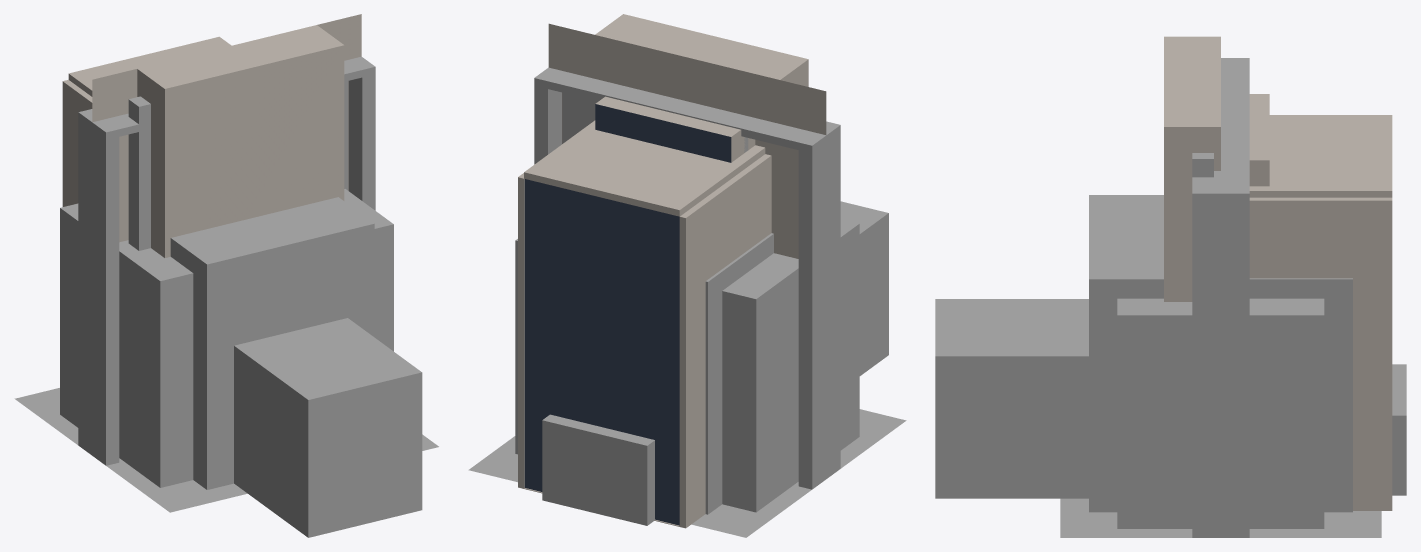
The model's file is wood.glb.
3 renders of one model, left to right at view 1: azimuth 30°, elevation 25°; view 2: azimuth 150°, elevation 25°; view 3: azimuth 270°, elevation 25°, orthographic. The views are drawn at different scales.
Visible parts, largest first — view 1: Mod_fireplace_wood, Solid_iron_bed, Isl_twin_cribs, Isl_bed_screen, Door_frame_wood, Exit_wood_p0, Mod_ceilhole_wood, Door_closed_wood, Win_sash_curtain, Isl_crib_rocker, Mod_wallhole_lath_A_wood, Mod_wallhole_lath_B_wood (+2 smaller); view 2: Exit_wood_p1, Exit_wood_p0, Isl_bed_screen, Door_frame_wood, Door_closed_wood, Mod_wallhole_lath_B_wood, Solid_nursery_table, Mod_fireplace_wood, Solid_iron_bed, Mod_ceilhole_wood, Isl_twin_cribs, Win_sash_sky (+4 smaller); view 3: Isl_bed_screen, Exit_wood_p0, Solid_iron_bed, Door_frame_wood, Isl_twin_cribs, Mod_fireplace_wood, Isl_crib_rocker, Mod_ceilhole_wood, Solid_nursery_table, Win_sash.
Boxes of the visible parts, left/top/right/bottom form: Mod_fireplace_wood: left=137, top=25, right=344, bottom=257; Solid_iron_bed: left=234, top=318, right=422, bottom=537; Isl_twin_cribs: left=170, top=197, right=374, bottom=489; Isl_bed_screen: left=60, top=189, right=393, bottom=487; Door_frame_wood: left=78, top=56, right=375, bottom=465; Exit_wood_p0: left=62, top=18, right=360, bottom=235; Mod_ceilhole_wood: left=14, top=388, right=438, bottom=512; Door_closed_wood: left=92, top=14, right=361, bottom=241; Win_sash_curtain: left=128, top=96, right=150, bottom=250; Isl_crib_rocker: left=193, top=342, right=203, bottom=487; Mod_wallhole_lath_A_wood: left=92, top=15, right=361, bottom=239; Mod_wallhole_lath_B_wood: left=92, top=14, right=360, bottom=239; Exit_wood_p1: left=524, top=179, right=679, bottom=525; Exit_wood_p0: left=518, top=26, right=826, bottom=528; Isl_bed_screen: left=515, top=219, right=859, bottom=512; Door_frame_wood: left=534, top=67, right=840, bottom=489; Door_closed_wood: left=548, top=24, right=826, bottom=258; Mod_wallhole_lath_B_wood: left=548, top=23, right=826, bottom=257; Solid_nursery_table: left=542, top=414, right=654, bottom=525; Mod_fireplace_wood: left=595, top=14, right=808, bottom=254; Solid_iron_bed: left=840, top=201, right=888, bottom=375; Mod_ceilhole_wood: left=468, top=409, right=906, bottom=537; Isl_twin_cribs: left=705, top=233, right=773, bottom=514; Win_sash_sky: left=595, top=104, right=731, bottom=162; Isl_bed_screen: left=1117, top=298, right=1324, bottom=528; Exit_wood_p0: left=1249, top=115, right=1392, bottom=510; Solid_iron_bed: left=935, top=299, right=1088, bottom=498; Door_frame_wood: left=1192, top=58, right=1249, bottom=537; Isl_twin_cribs: left=1089, top=195, right=1352, bottom=512; Mod_fireplace_wood: left=1164, top=36, right=1220, bottom=301; Isl_crib_rocker: left=1096, top=370, right=1345, bottom=512; Mod_ceilhole_wood: left=1060, top=498, right=1381, bottom=537; Solid_nursery_table: left=1392, top=364, right=1406, bottom=495; Win_sash: left=1249, top=94, right=1269, bottom=186.
Size of the model in its own units: 2.25 by 3.35 by 3.3.
